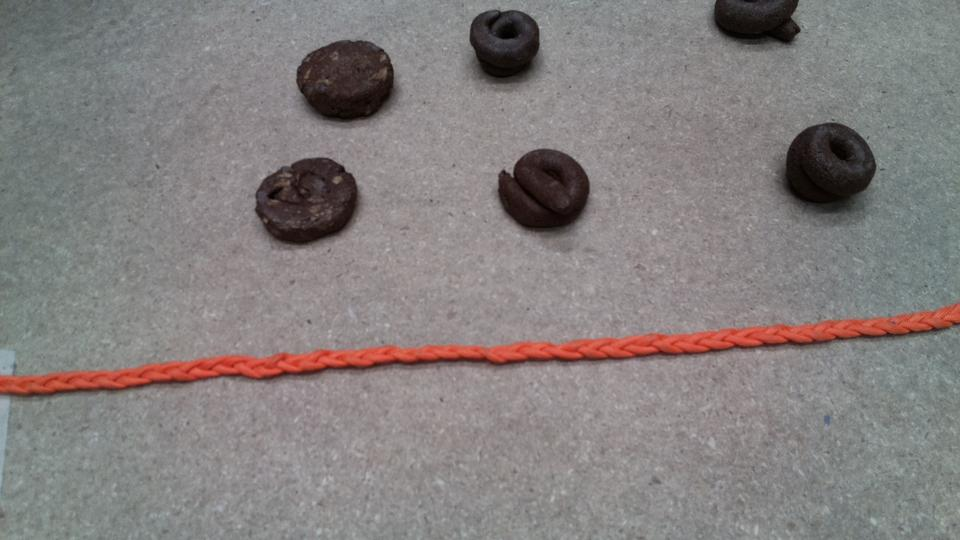poop: (252, 151, 364, 250), (492, 143, 598, 240), (291, 38, 407, 124), (783, 117, 882, 217), (467, 4, 545, 86)
rope: (262, 337, 694, 387), (1, 357, 342, 411), (611, 321, 960, 372)
